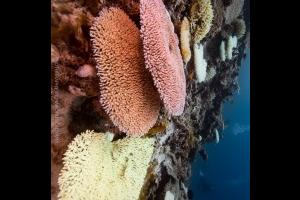bleached_corals: (56, 128, 153, 200)
